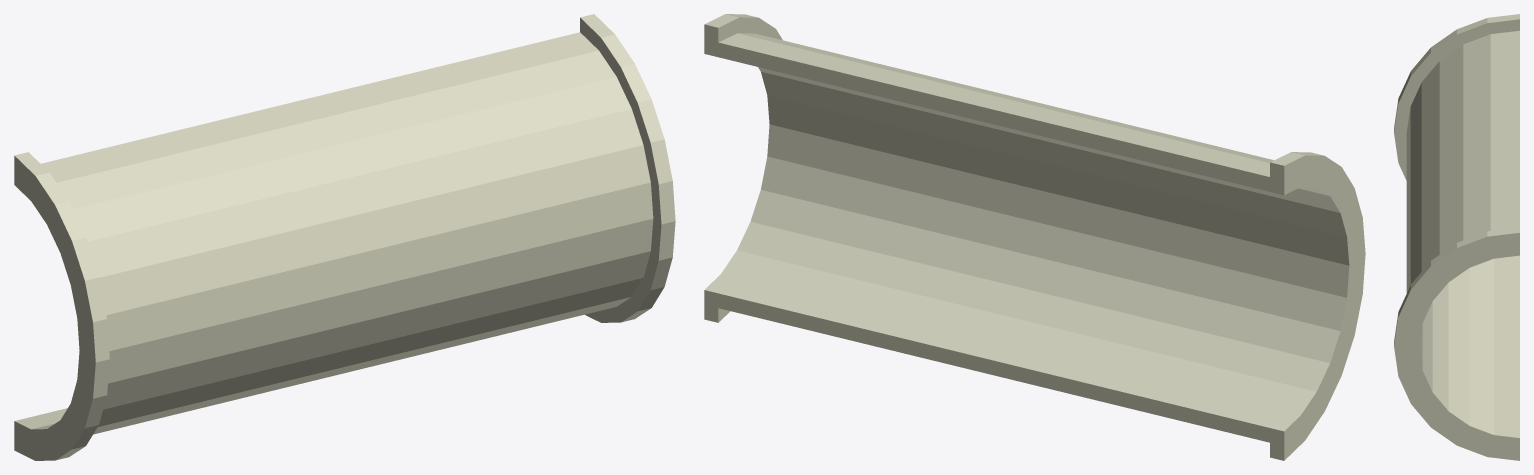
The model's file is section_205.obj.
3 views of the same model, side by side, from view 1: azimuth 30°, elevation 25°; view 2: azimuth 150°, elevation 25°; view 3: azimuth 270°, elevation 25° (orthographic). The views are drawn at different scales.
Bounding box in the file's own units: 41.12 × 20 × 10.
